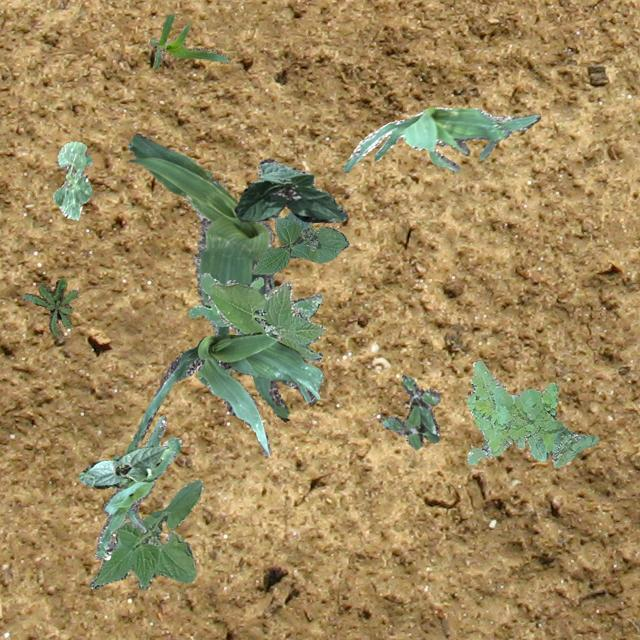crop: (126, 134, 288, 420), (134, 330, 322, 454), (342, 106, 540, 172), (94, 414, 180, 558), (90, 478, 202, 588), (208, 280, 324, 360), (234, 158, 346, 222), (252, 212, 348, 274), (148, 12, 230, 68), (78, 444, 168, 488), (52, 140, 92, 218)
weed: (466, 360, 598, 466), (188, 272, 322, 340), (380, 374, 440, 448), (22, 276, 76, 334)
